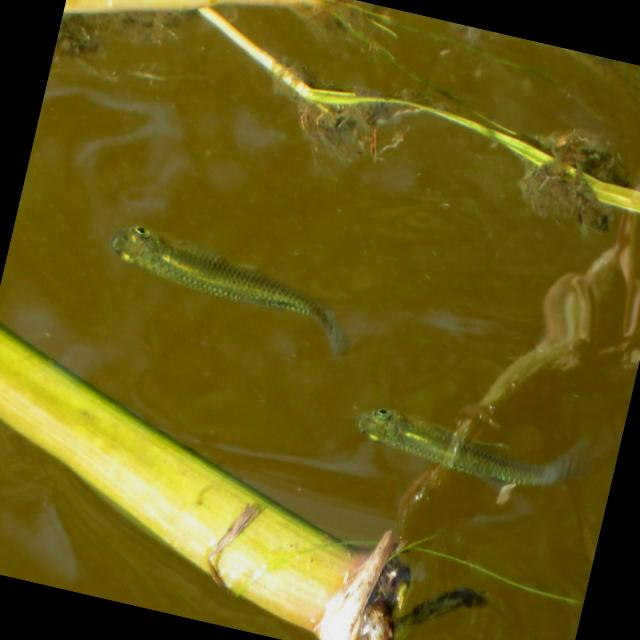Sivrisinek Baligi: (94, 216, 368, 362), (346, 388, 592, 510)
